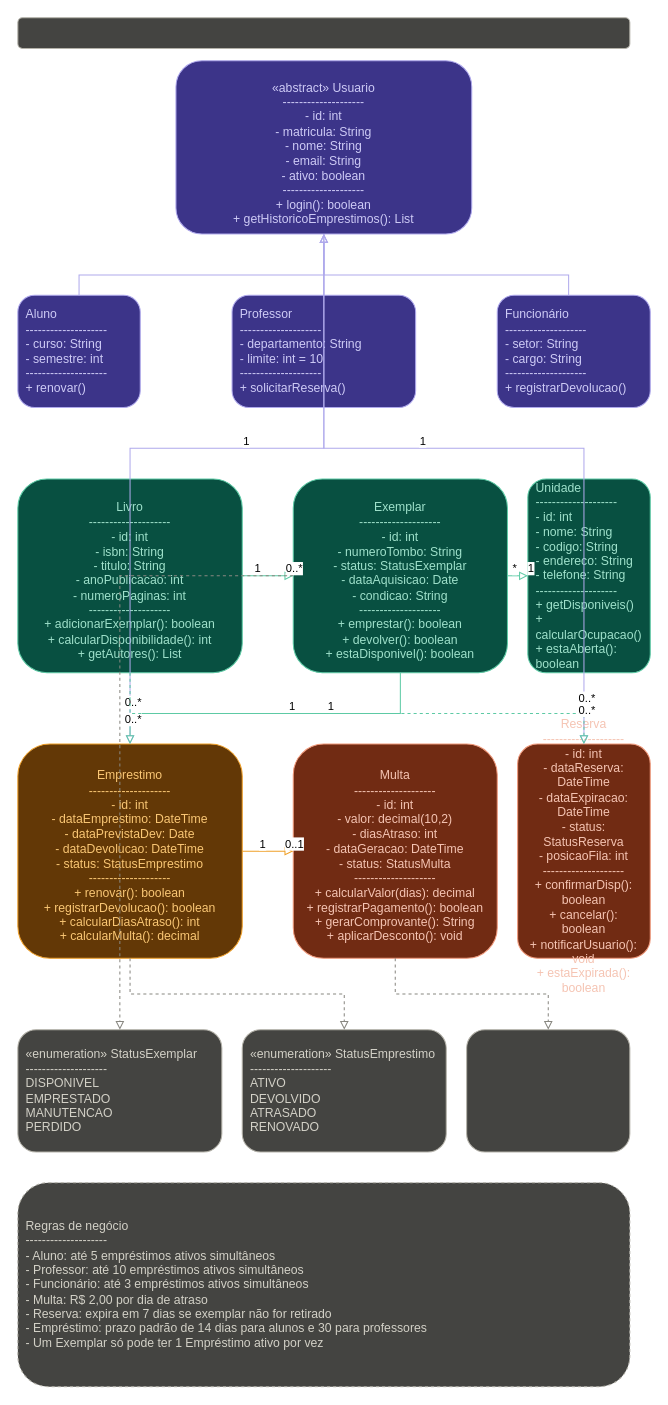
Image size: 668x1405. Some labels were removed from this diagram. Each missing label, with the box of its shape:
triângulo vazio = herança | seta fechada = associação | tracejado = dependência: (17, 17, 630, 48)
«enumeration» StatusMulta -------------------- PENDENTE PAGA CANCELADA: (466, 1029, 630, 1152)
